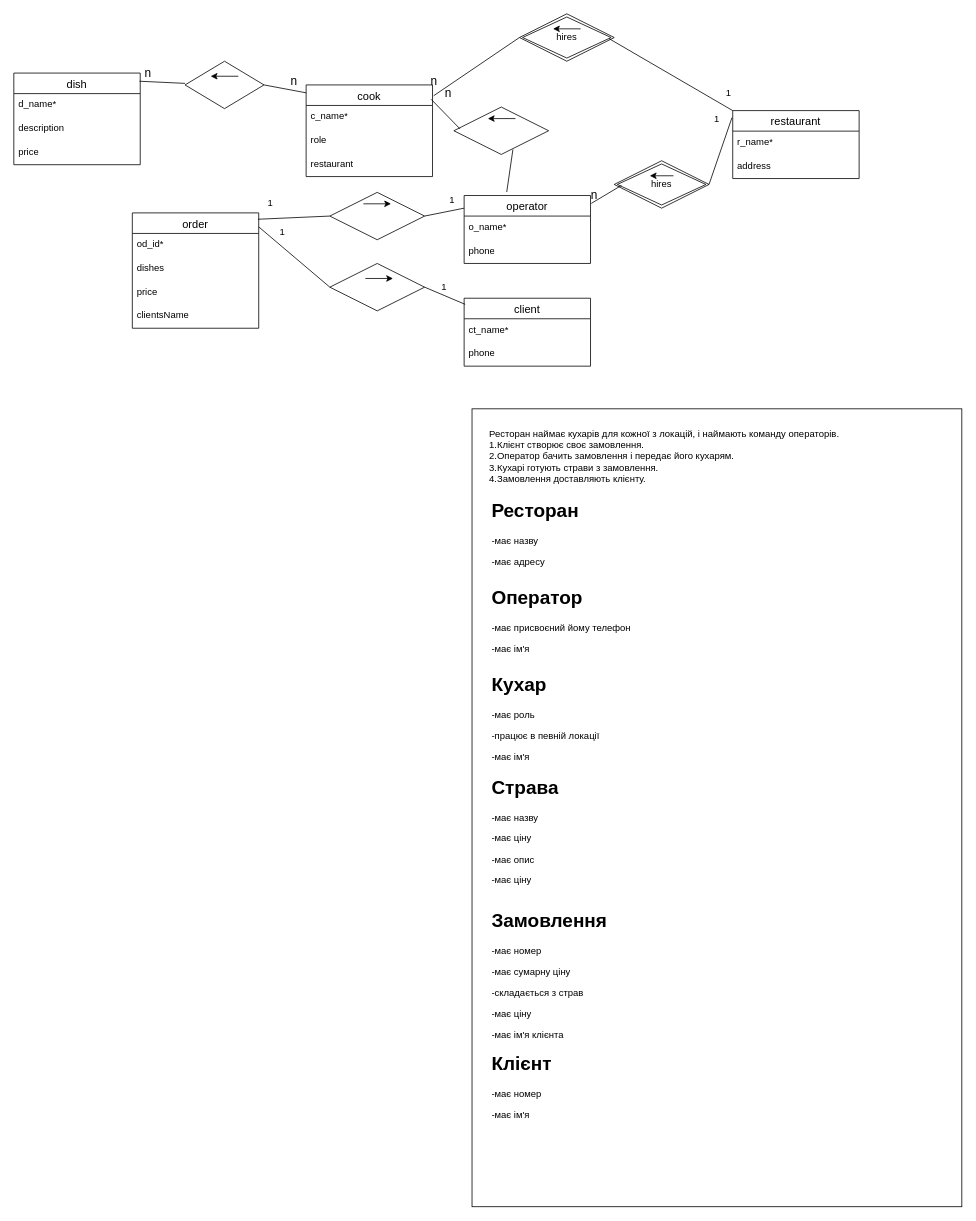
The diagram is 976 pixels wide and 1221 high, and some of its shapes have lost their labels. The centre of each missing label's shape, as x and y in pixels:
cooks: the point at 224,84
is delivered to: the point at 377,287
takes: the point at 377,216
tells: the point at 501,130
